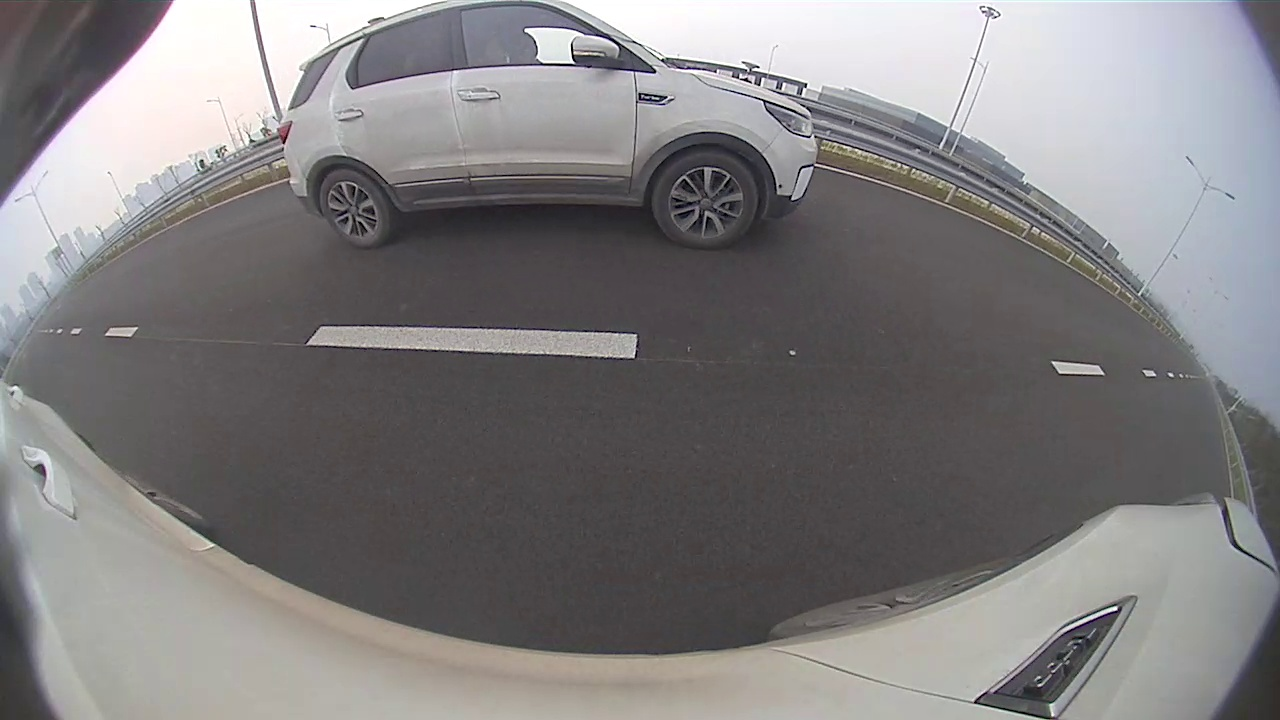car: (277, 1, 818, 250)
front: (656, 147, 762, 248)
rear: (317, 169, 394, 249)
